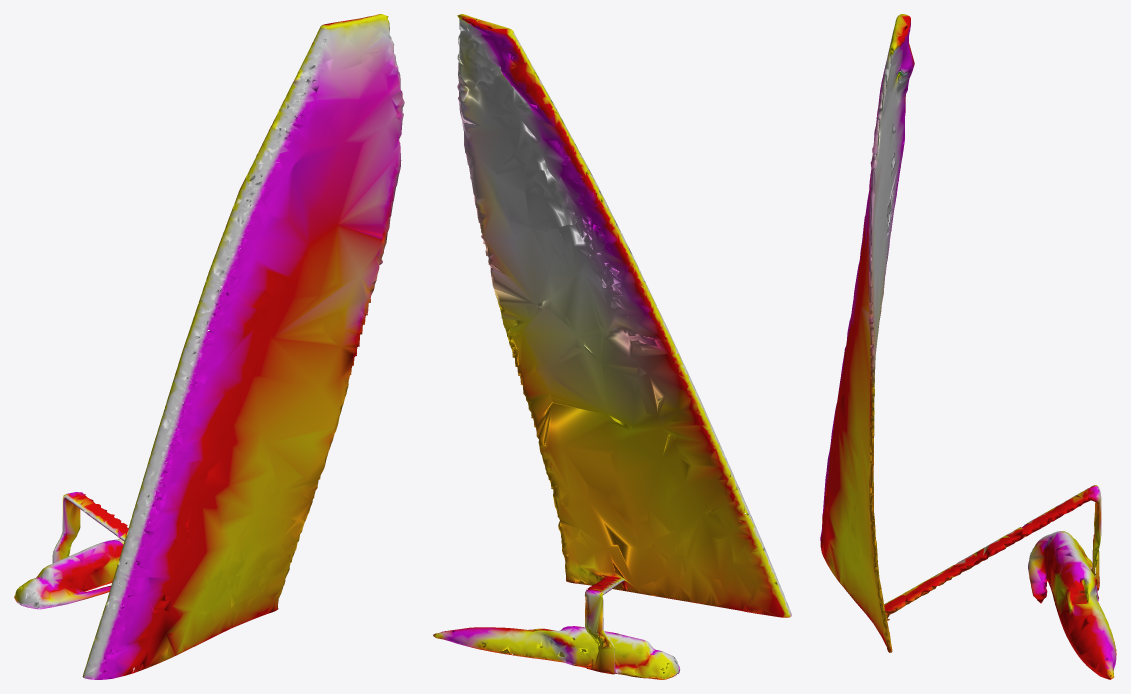
Rendered from decimatedhalfwing.glb.
The picture shows the model from 3 angles, left to right: view 1: azimuth 30°, elevation 25°; view 2: azimuth 150°, elevation 25°; view 3: azimuth 270°, elevation 25°; orthographic projection. The views are drawn at different scales.
Bounding box in the file's own units: 3 × 4.85 × 1.94.
